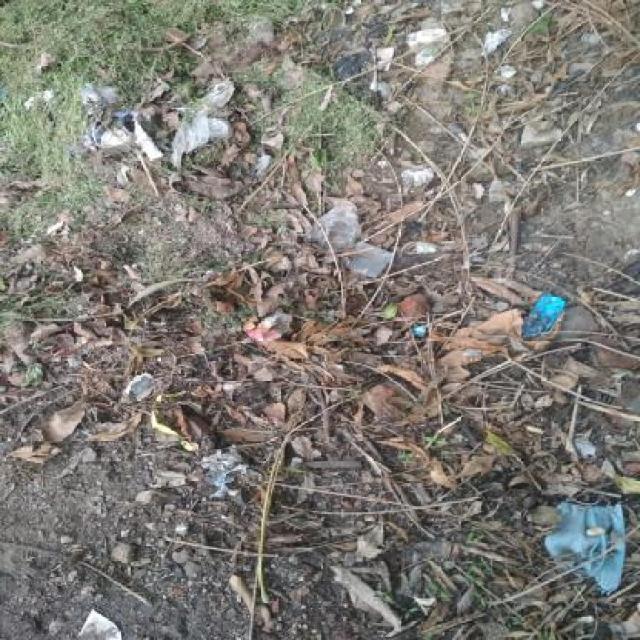garbage: (17, 289, 640, 639), (167, 101, 640, 305), (370, 5, 636, 156)
